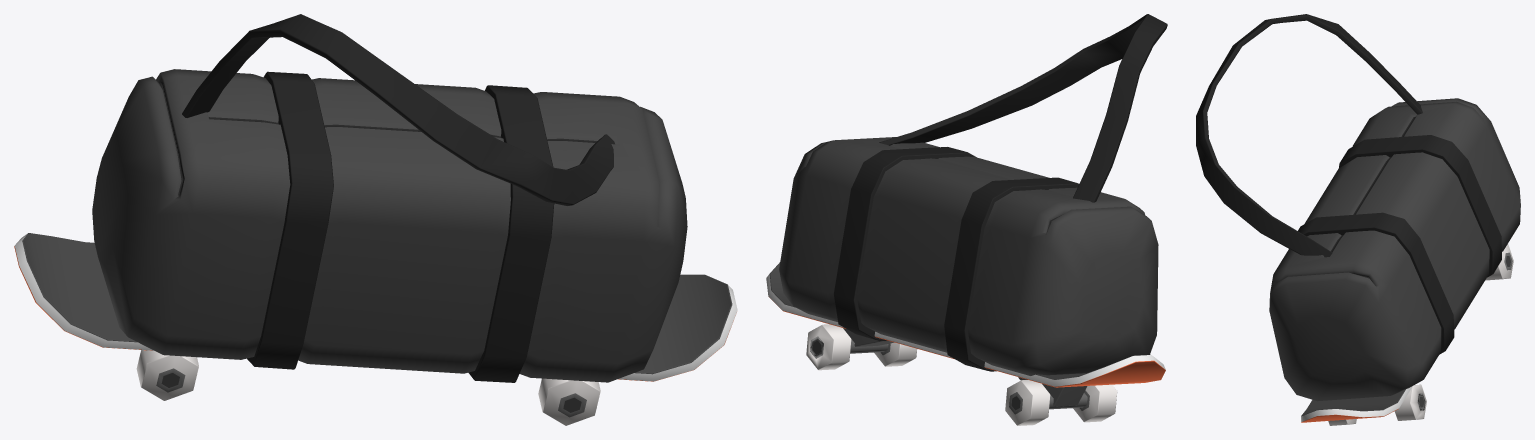
File: Backpack_011.glb
The picture shows the model from 3 angles, left to right: view 1: azimuth 30°, elevation 25°; view 2: azimuth 150°, elevation 25°; view 3: azimuth 270°, elevation 25°; orthographic projection. The views are drawn at different scales.
Visible parts, largest first — view 1: Backpack_011; view 2: Backpack_011; view 3: Backpack_011.
Part boxes in pixels (box(x1,y1,x2,y2)): Backpack_011: box(14, 14, 737, 425); Backpack_011: box(766, 14, 1167, 425); Backpack_011: box(1196, 14, 1520, 425).
Bounding box in the file's own units: 1.02 × 0.8 × 0.7364.
1 material, 1 textured.
